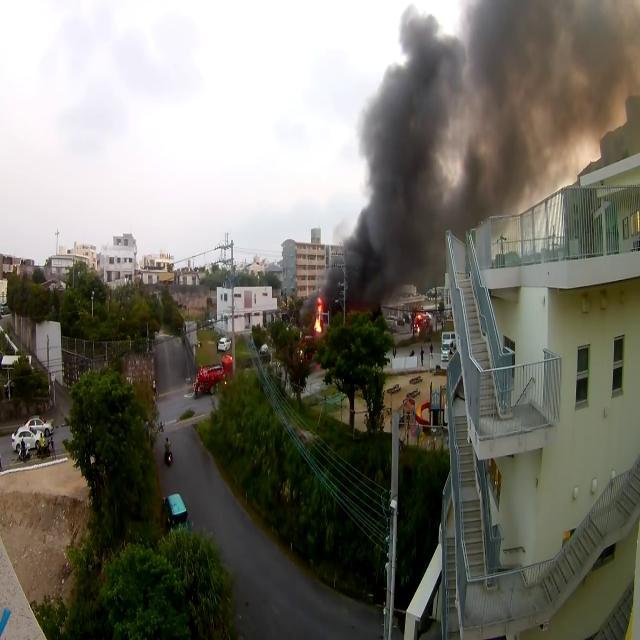Fire: (311, 289, 327, 341)
Smoke: (331, 0, 640, 330)
